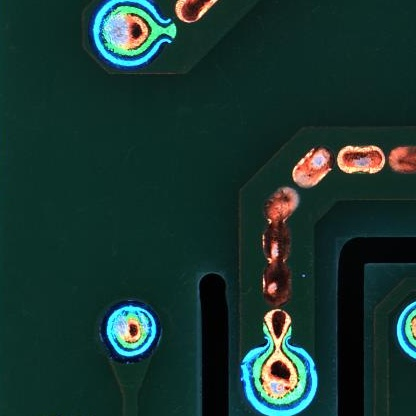spot: (90, 1, 178, 69), (244, 346, 319, 414), (103, 300, 164, 362)
